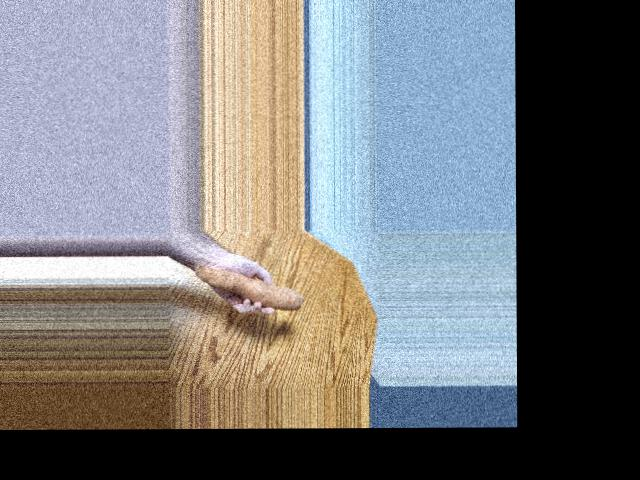sweet_potato: (207, 270, 319, 316)
